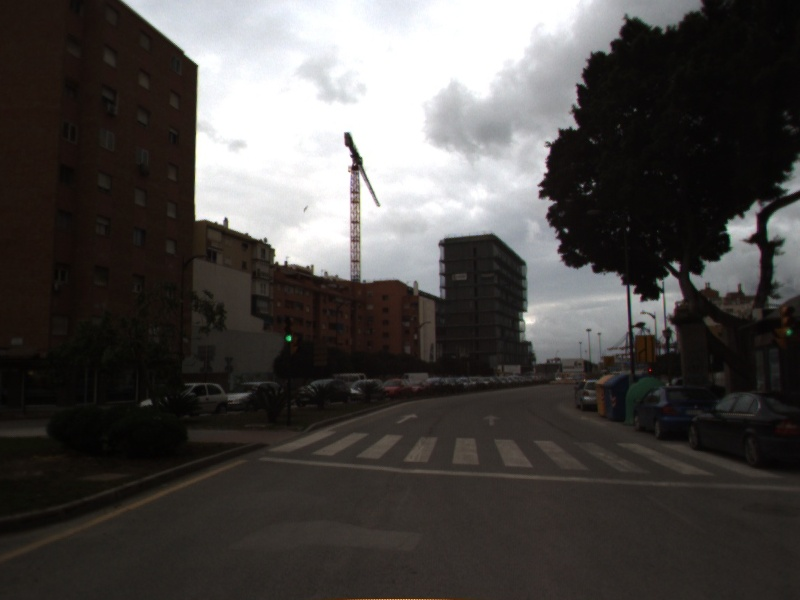STRAIGHT: (394, 410, 421, 425), (481, 412, 503, 428)
